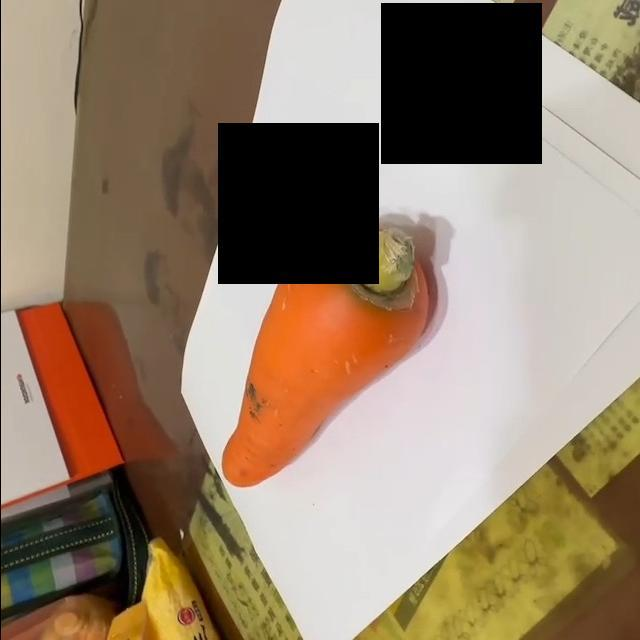carrot: (218, 218, 435, 490)
